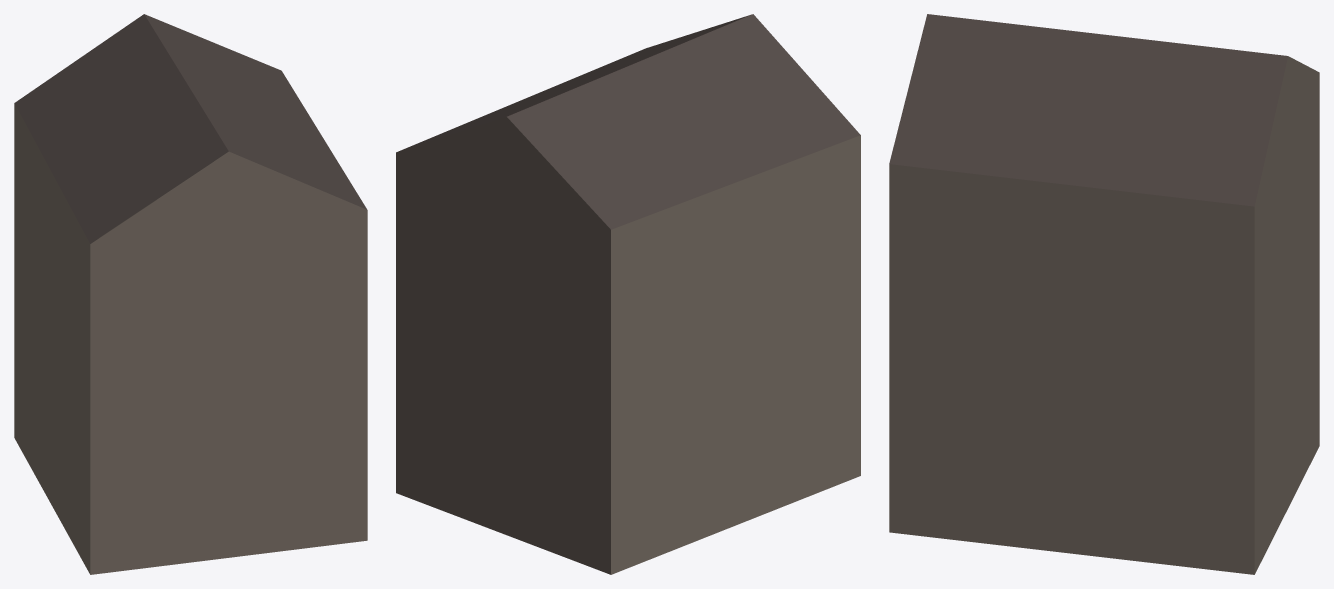
3 views of the same model, side by side, from view 1: azimuth 30°, elevation 25°; view 2: azimuth 150°, elevation 25°; view 3: azimuth 270°, elevation 25° (orthographic). The views are drawn at different scales.
Visible parts, largest first — view 1: HP-w505643547; view 2: HP-w505643547; view 3: HP-w505643547.
Part boxes in pixels (<box>): HP-w505643547: <box>14,14,367,574</box>; HP-w505643547: <box>396,14,860,574</box>; HP-w505643547: <box>889,14,1319,574</box>.
Size of the model in its own units: 9.15 by 11.05 by 9.54.
